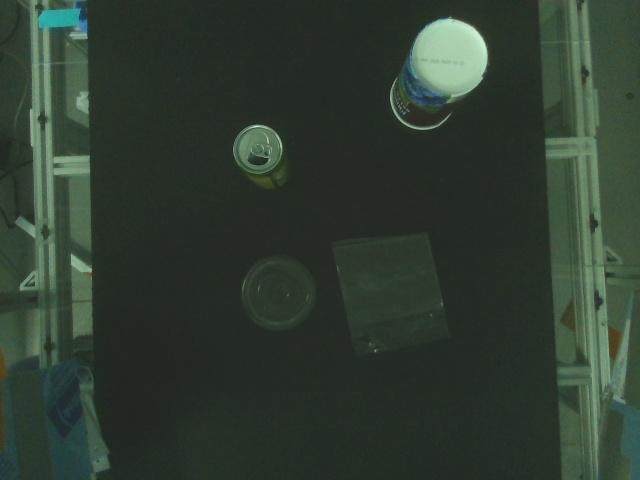cardboard: (389, 16, 487, 130)
metal: (233, 123, 290, 190)
plastic: (332, 231, 450, 357), (243, 254, 318, 333)
